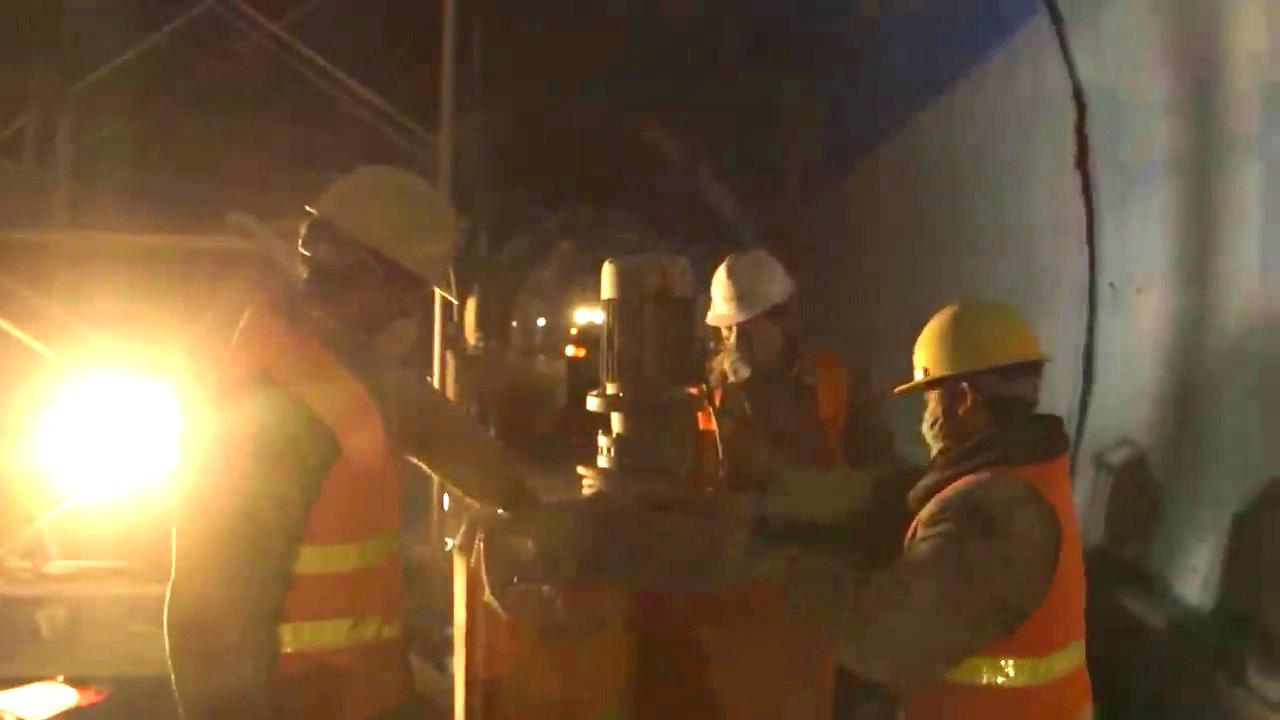helmet: (297, 161, 460, 358), (891, 296, 1054, 450), (702, 246, 800, 366)
